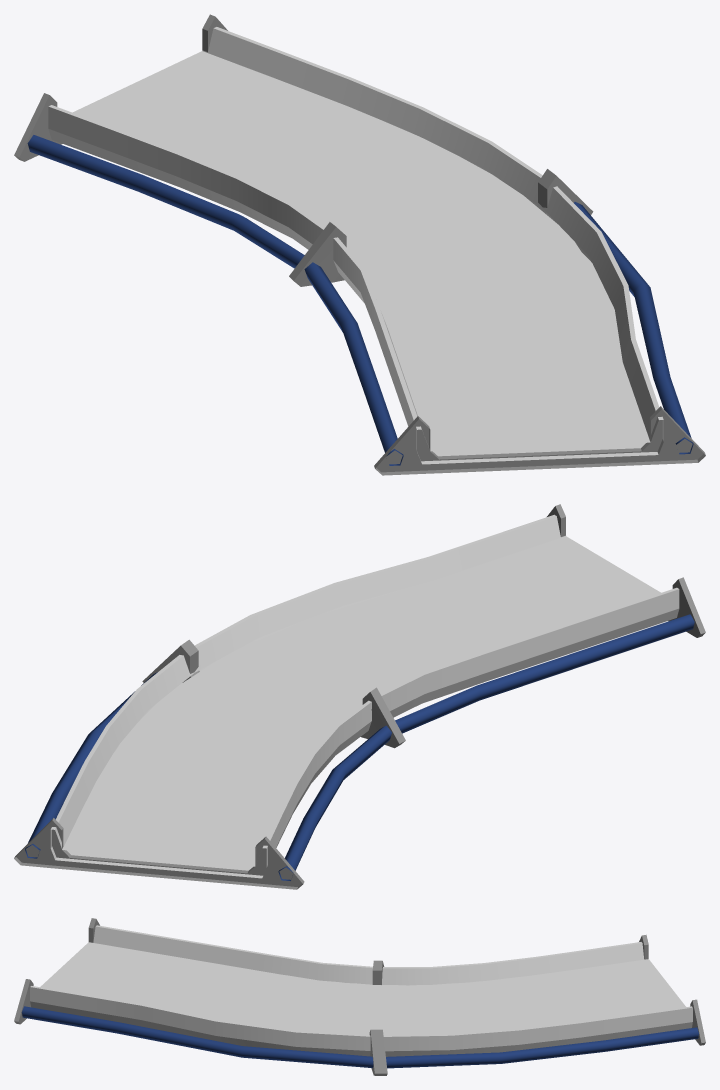
File: Small Corner.fbx
The picture shows the model from 3 angles, top to bottom: view 1: azimuth 30°, elevation 25°; view 2: azimuth 150°, elevation 25°; view 3: azimuth 270°, elevation 25°; orthographic projection. The views are drawn at different scales.
Visible parts, largest first — view 1: RacetrackStraightShort.003, RacetrackStraightShort.002, Frames.004; view 2: RacetrackStraightShort.003, RacetrackStraightShort.002, Frames.004; view 3: RacetrackStraightShort.003, RacetrackStraightShort.002, Frames.004.
Boxes of the visible parts, bbox=[...] form: RacetrackStraightShort.003: bbox=[72, 51, 650, 451]; RacetrackStraightShort.002: bbox=[48, 27, 663, 464]; Frames.004: bbox=[14, 14, 705, 475]; RacetrackStraightShort.003: bbox=[62, 536, 660, 866]; RacetrackStraightShort.002: bbox=[50, 514, 679, 878]; Frames.004: bbox=[14, 504, 705, 889]; RacetrackStraightShort.003: bbox=[40, 942, 685, 1035]; RacetrackStraightShort.002: bbox=[30, 925, 692, 1056]; Frames.004: bbox=[14, 918, 705, 1075].
Bounding box in the file's own units: 52.42 × 6.45 × 113.
